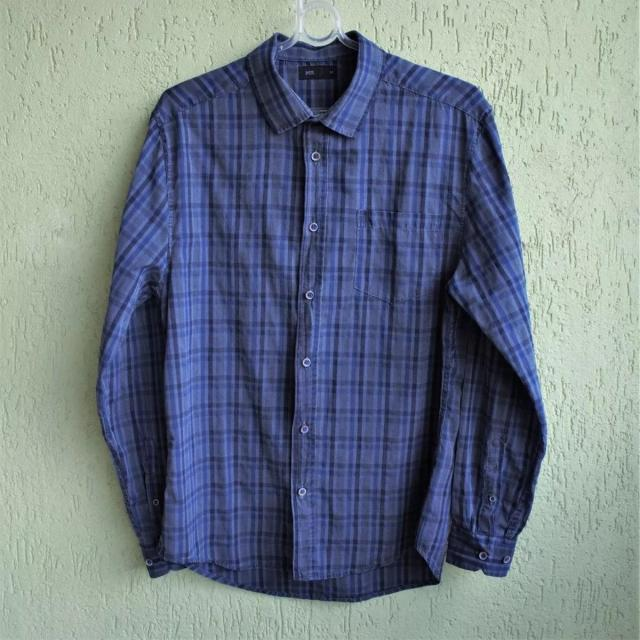long sleeve shirt: (92, 29, 549, 606)
